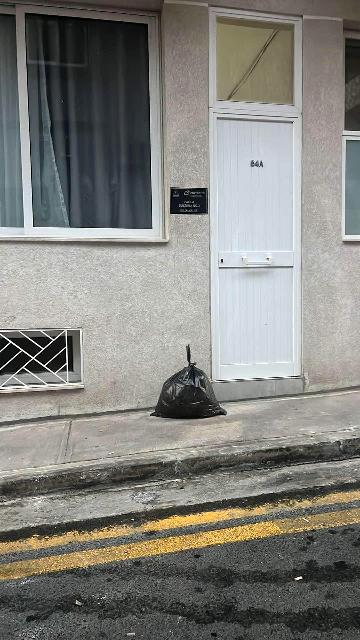Mixed -Black-: (151, 344, 226, 419)
